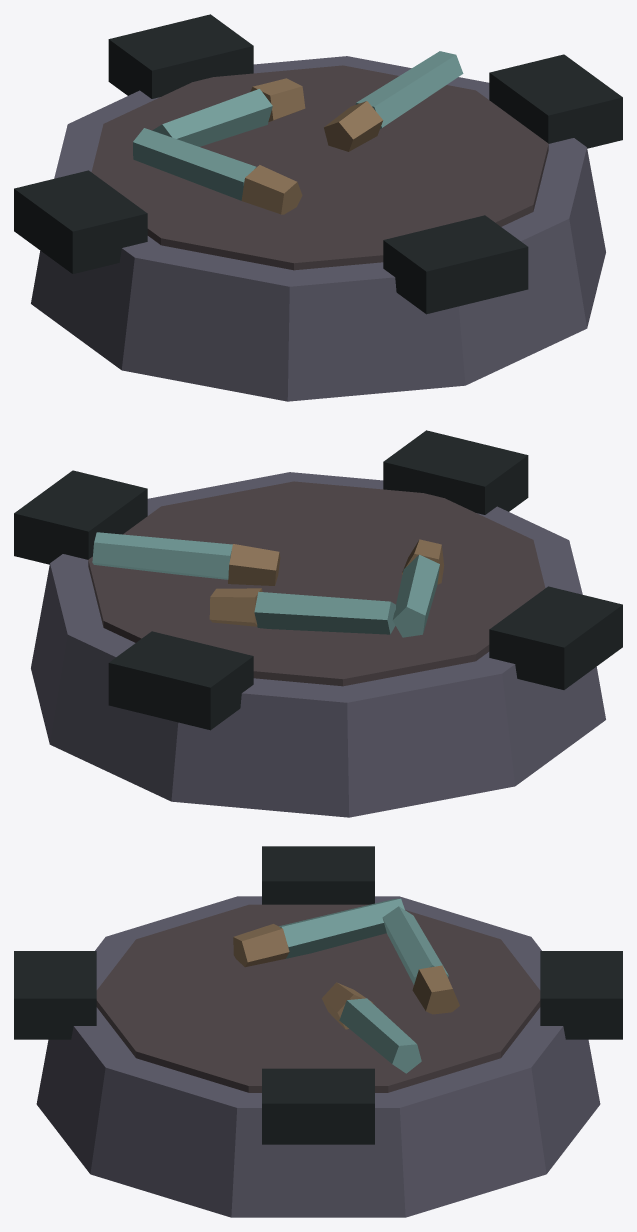
File: scrumiera.glb
3 views of the same model, one above another, from view 1: azimuth 30°, elevation 25°; view 2: azimuth 150°, elevation 25°; view 3: azimuth 270°, elevation 25° (orthographic). The views are drawn at different scales.
Parts seen in each view (by area): view 1: Scrumiera; view 2: Scrumiera; view 3: Scrumiera.
Boxes of the visible parts, left/top/right/bottom form: Scrumiera: left=14, top=14, right=622, bottom=401; Scrumiera: left=14, top=430, right=622, bottom=817; Scrumiera: left=14, top=846, right=622, bottom=1217.
Size of the model in its own units: 0.162 by 0.0425 by 0.162.
